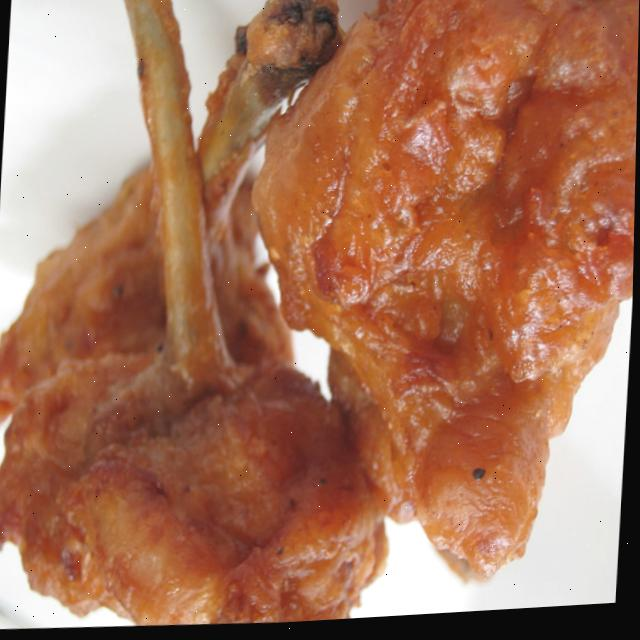鸡肉料理 含炸鸡: (8, 0, 640, 639)
